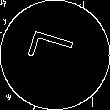L_E: (26, 33, 84, 77)
